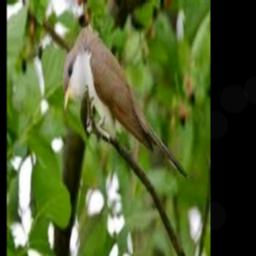Cuckoo: (64, 25, 187, 178)
